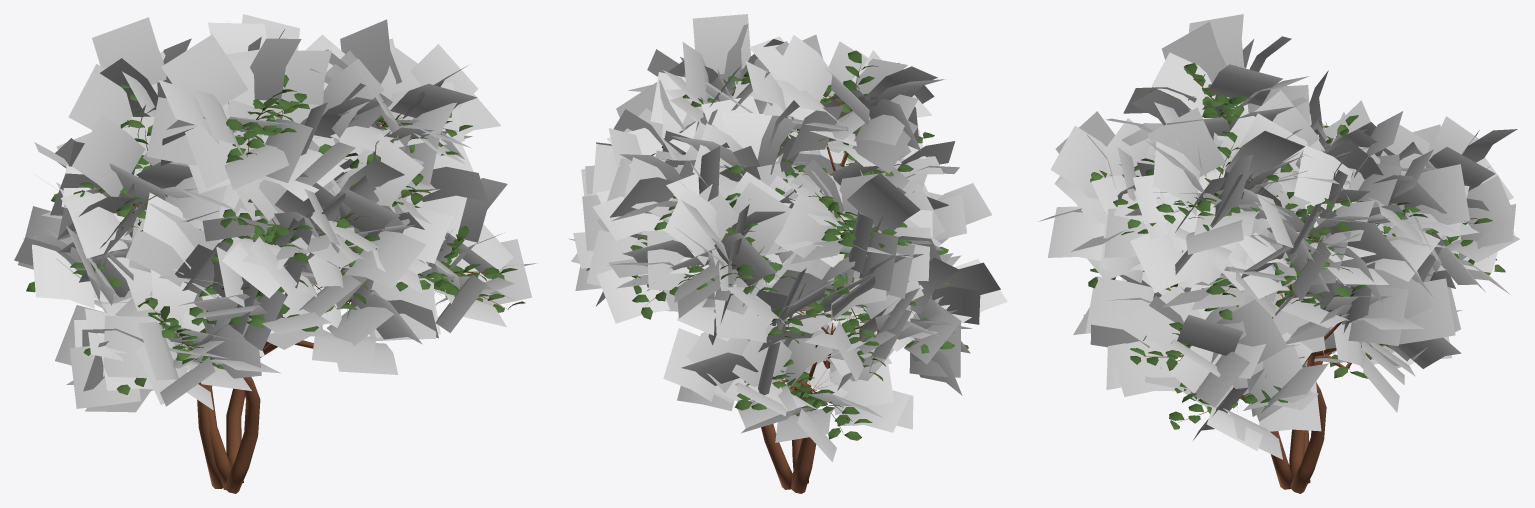
Rendered from Arbousier_Dense_LOD0.fbx.
The picture shows the model from 3 angles, left to right: view 1: azimuth 30°, elevation 25°; view 2: azimuth 150°, elevation 25°; view 3: azimuth 270°, elevation 25°; orthographic projection. The views are drawn at different scales.
Visible parts, largest first — view 1: Arbousier_Dense; view 2: Arbousier_Dense; view 3: Arbousier_Dense.
Part boxes in pixels (x1,y1,x2,y2): Arbousier_Dense: [14, 14, 538, 493]; Arbousier_Dense: [568, 14, 1007, 493]; Arbousier_Dense: [1038, 14, 1519, 493].
Bounding box in the file's own units: 388 × 387 × 385.
